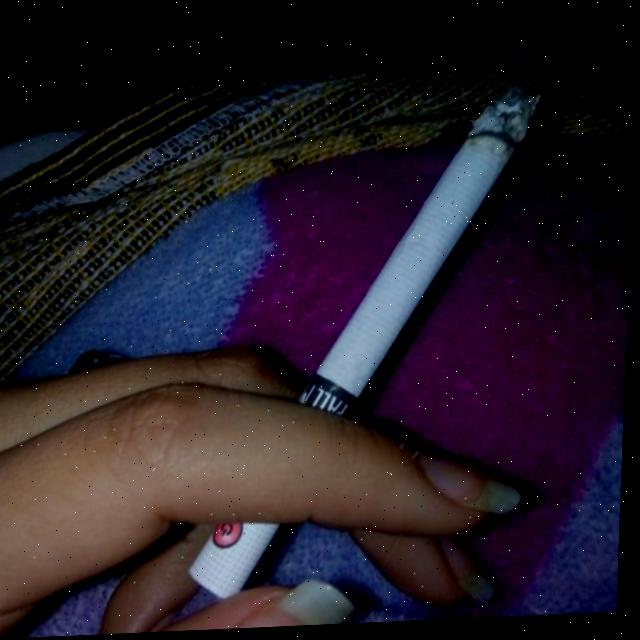cigarette: (191, 90, 546, 602)
